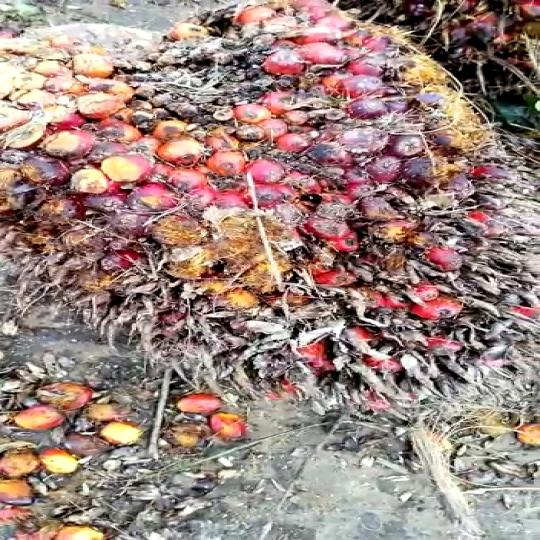masak: (0, 0, 540, 399)
